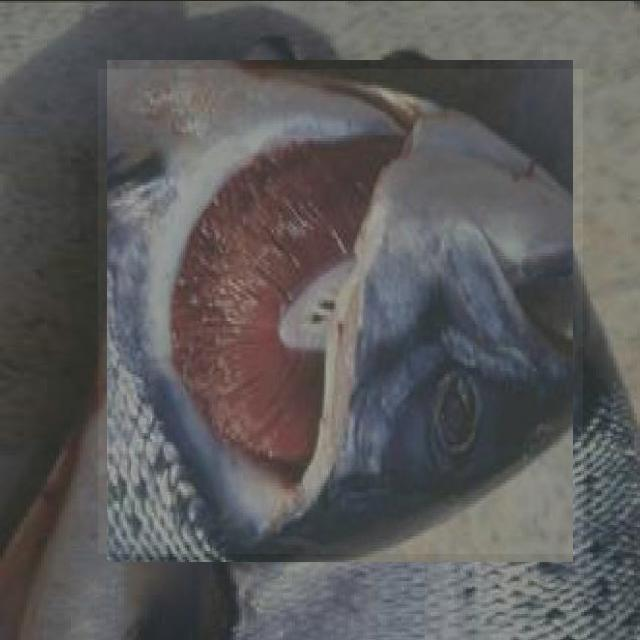Gill Disease: (98, 68, 583, 553)
